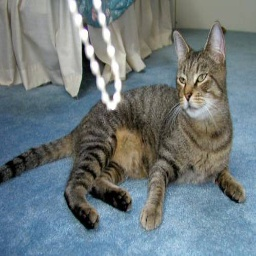cat: (0, 27, 241, 229)
